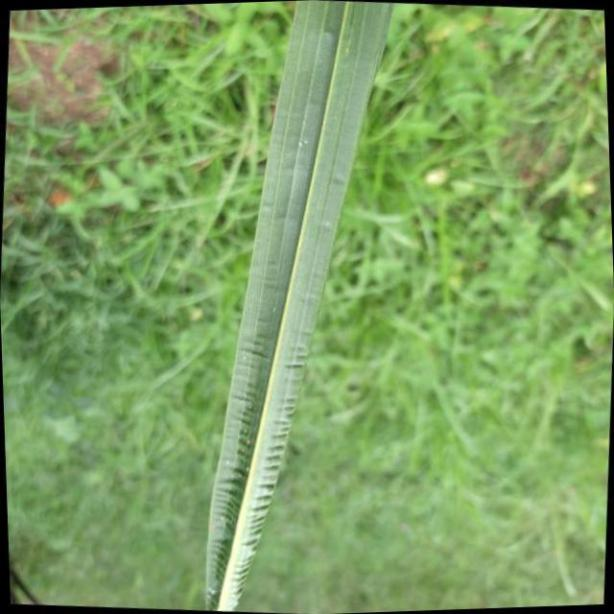Boron: (203, 0, 393, 614)
